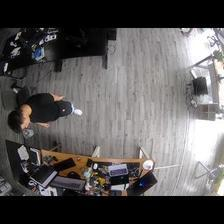normal: (7, 91, 83, 134)
